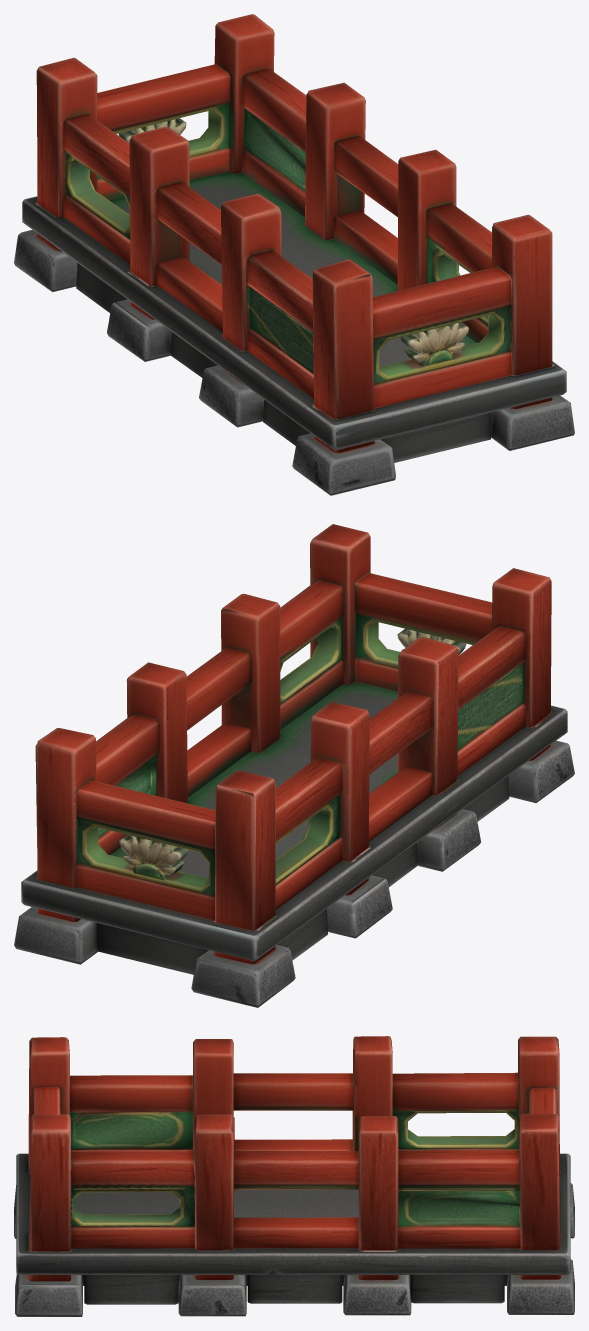
Rendered from tripo_convert_f518ccc2-8ba8-4829-8a2c-f2914f886078.fbx.
3 renders of one model, top to bottom at view 1: azimuth 30°, elevation 25°; view 2: azimuth 150°, elevation 25°; view 3: azimuth 270°, elevation 25°, orthographic. The views are drawn at different scales.
Visible parts, largest first — view 1: tripo_node_f518ccc2; view 2: tripo_node_f518ccc2; view 3: tripo_node_f518ccc2.
Boxes of the visible parts, left/top/right/bottom form: tripo_node_f518ccc2: left=14, top=14, right=574, bottom=495; tripo_node_f518ccc2: left=14, top=524, right=574, bottom=1007; tripo_node_f518ccc2: left=14, top=1036, right=574, bottom=1316.
Size of the model in its own units: 0.4551 by 0.3535 by 0.998.
1 material, 1 textured.
